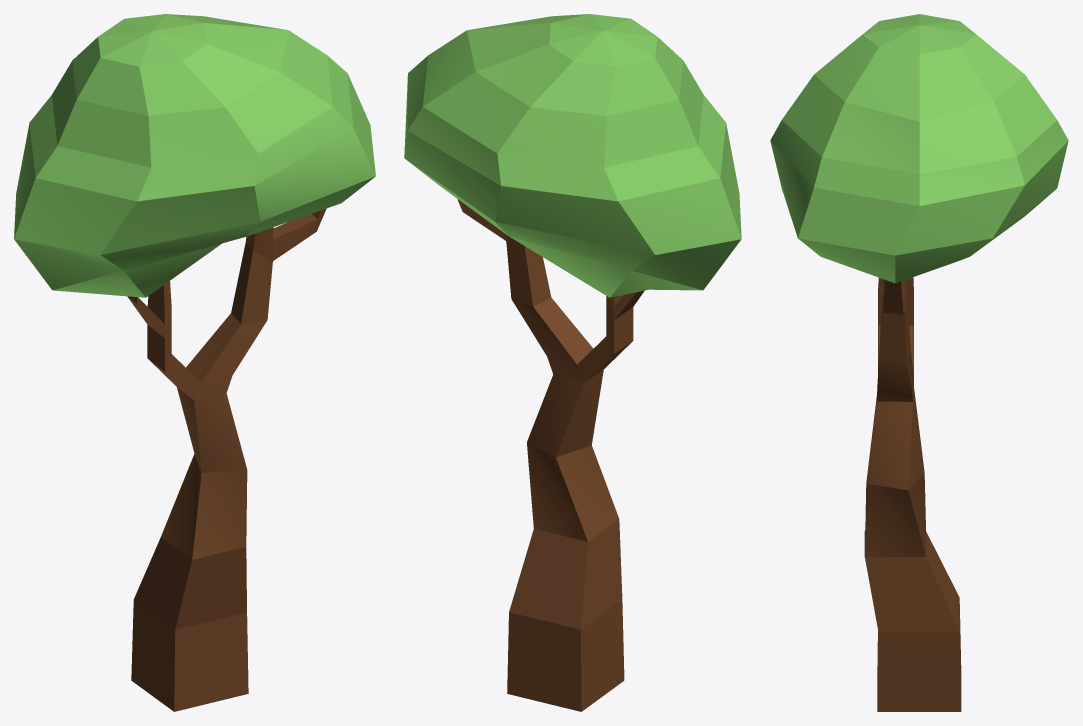
The model's file is TreeVar1.fbx.
The picture shows the model from 3 angles, left to right: view 1: azimuth 30°, elevation 25°; view 2: azimuth 150°, elevation 25°; view 3: azimuth 270°, elevation 25°; orthographic projection. The views are drawn at different scales.
Parts seen in each view (by area): view 1: TreeVar1; view 2: TreeVar1; view 3: TreeVar1.
Boxes of the visible parts, left/top/right/bottom form: TreeVar1: left=14, top=14, right=375, bottom=711; TreeVar1: left=404, top=14, right=741, bottom=711; TreeVar1: left=770, top=14, right=1068, bottom=711.
Bounding box in the file's own units: 14.26 × 26.34 × 10.94.
